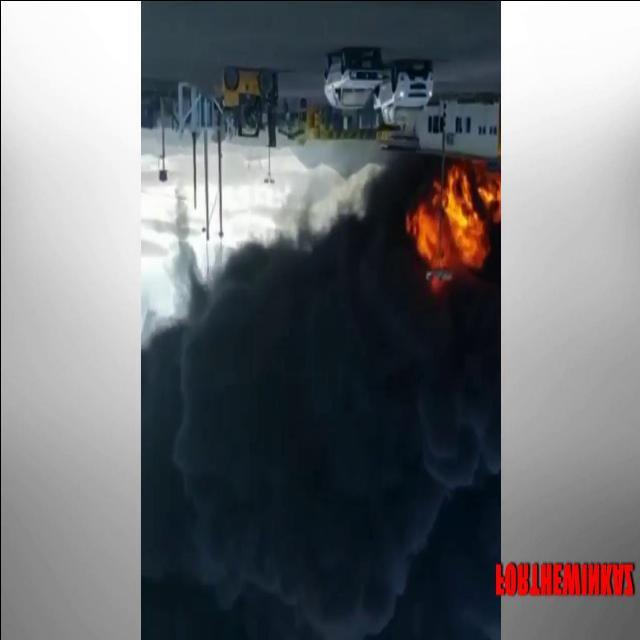Fire: (403, 157, 499, 300)
